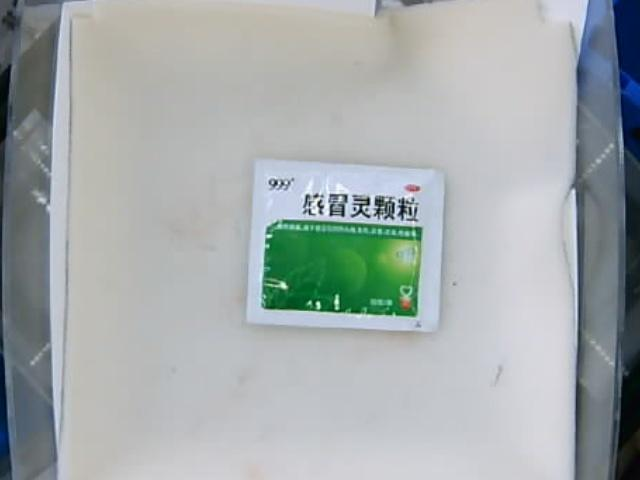Medicine: (247, 158, 443, 333)
